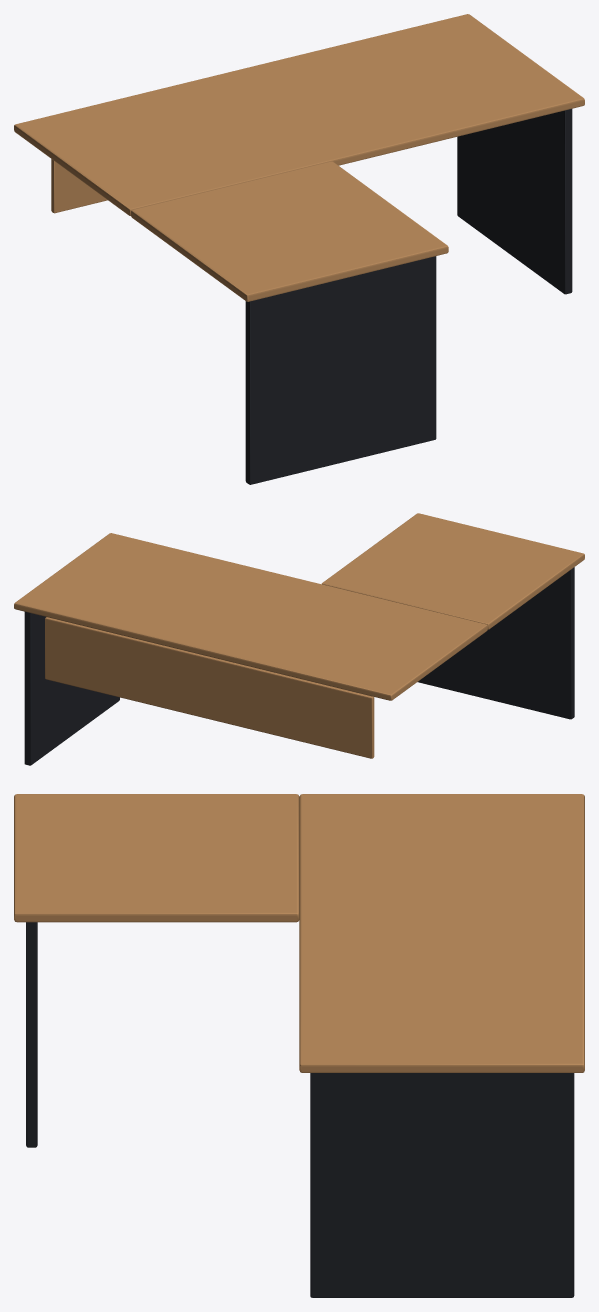
Rendered from desk-corner.glb.
The picture shows the model from 3 angles, top to bottom: view 1: azimuth 30°, elevation 25°; view 2: azimuth 150°, elevation 25°; view 3: azimuth 270°, elevation 25°; orthographic projection. The views are drawn at different scales.
Parts seen in each view (by area): view 1: desk-corner; view 2: desk-corner; view 3: desk-corner.
Part boxes in pixels (x1,y1,x2,y2): desk-corner: [14, 14, 584, 484]; desk-corner: [14, 513, 584, 765]; desk-corner: [14, 794, 584, 1297].
Size of the model in its own units: 1.8 by 0.74 by 1.6.
